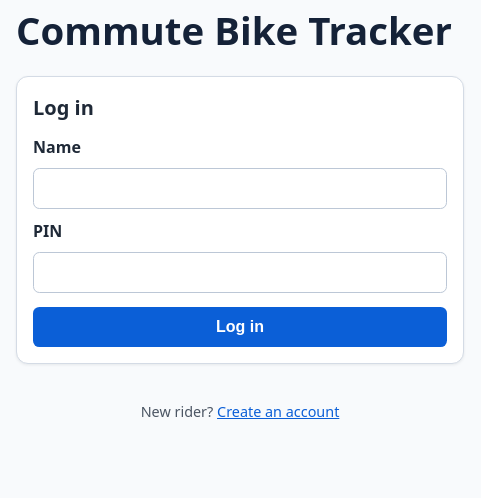
it: LoginPage component › shows unauthorized message for 401 responses
The image size is (481, 498).
Type "Alice" into the field labelled "Name" at x=240, y=189, box [33, 168, 447, 209]
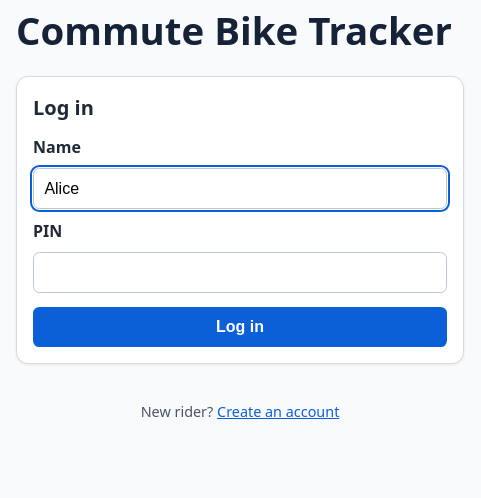
Type "0000" into the password field labelled "PIN" at x=240, y=273, box [33, 252, 447, 293]
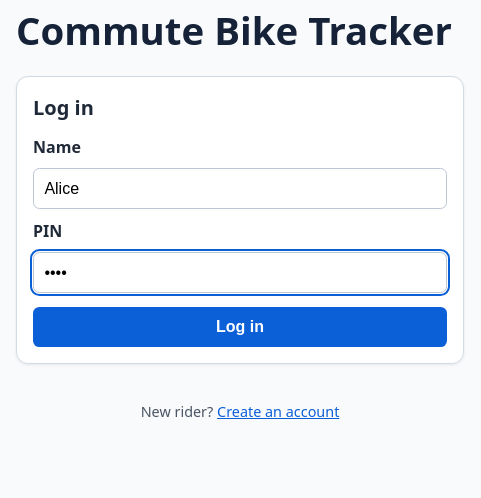
Click the button "Log in" at x=240, y=327, box [33, 306, 447, 347]
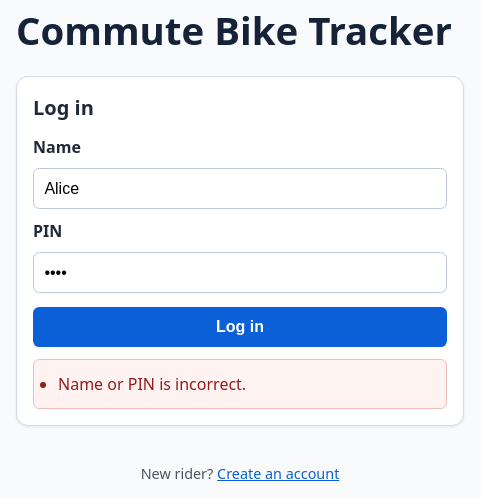
expect the list item "Name or PIN is incorrect." is shown: met, box [58, 373, 246, 395]
